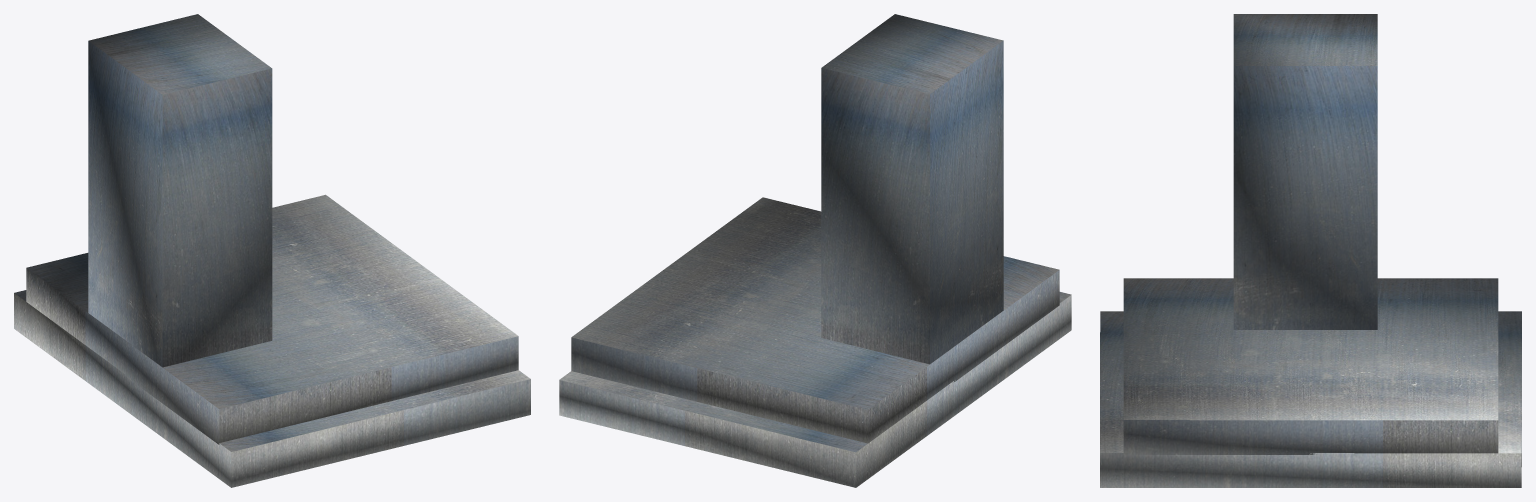
3 renders of one model, left to right at view 1: azimuth 30°, elevation 25°; view 2: azimuth 150°, elevation 25°; view 3: azimuth 270°, elevation 25°, orthographic. The views are drawn at different scales.
Visible parts, largest first — view 1: Mesh.018_Kueche_Hood; view 2: Mesh.018_Kueche_Hood; view 3: Mesh.018_Kueche_Hood.
Part boxes in pixels (box(x1,y1,x2,y2)): Mesh.018_Kueche_Hood: box(14, 14, 530, 487); Mesh.018_Kueche_Hood: box(559, 14, 1071, 487); Mesh.018_Kueche_Hood: box(1100, 14, 1521, 487).
Bounding box in the file's own units: 0.5413 × 0.5913 × 0.6805.
Materials: 1 (1 with a texture image).
